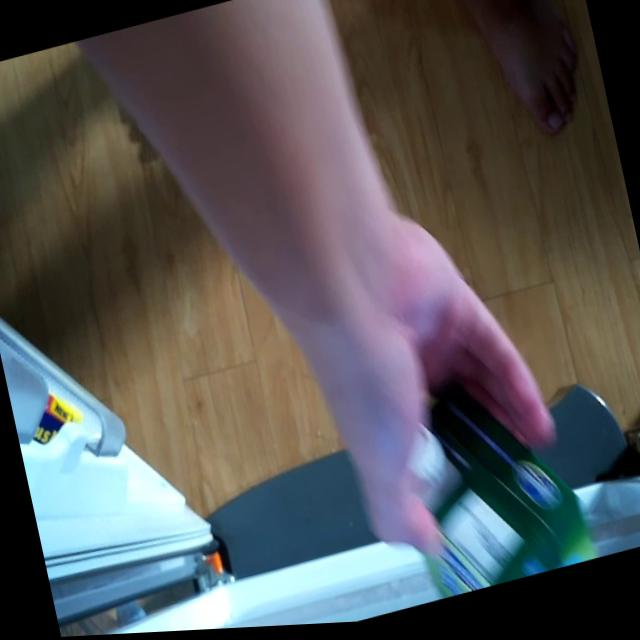milk: (375, 370, 597, 611)
